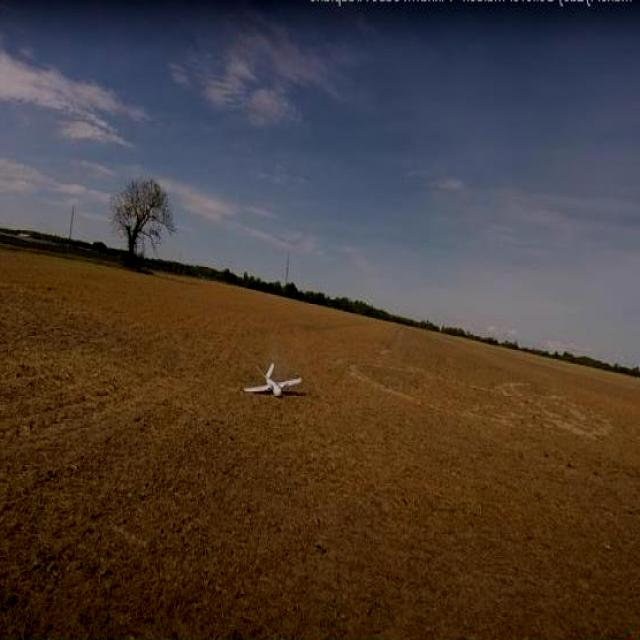plane: (242, 360, 308, 397)
